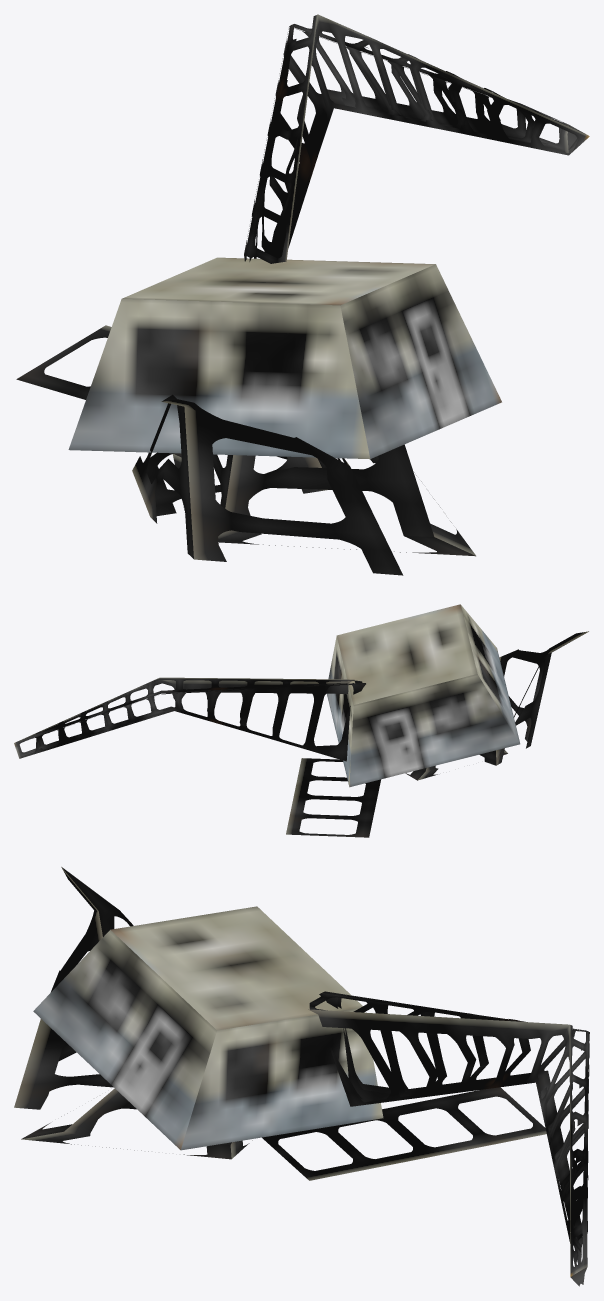
The model's file is crane_dam.glb.
The picture shows the model from 3 angles, top to bottom: view 1: azimuth 30°, elevation 25°; view 2: azimuth 150°, elevation 25°; view 3: azimuth 270°, elevation 25°; orthographic projection. The views are drawn at different scales.
Visible parts, largest first — view 1: Object01, Crane_PAB; view 2: Object01, Crane_PAB; view 3: Object01, Crane_PAB.
Boxes of the visible parts, box(x1,y1,x2,y2) form: Object01: box(68, 257, 501, 575); Crane_PAB: box(16, 14, 589, 459); Object01: box(327, 604, 588, 787); Crane_PAB: box(14, 677, 380, 837); Object01: box(14, 867, 383, 1159); Crane_PAB: box(262, 991, 589, 1286).
Size of the model in its own units: 13.17 by 4.14 by 11.11.
1 material, 1 textured.
